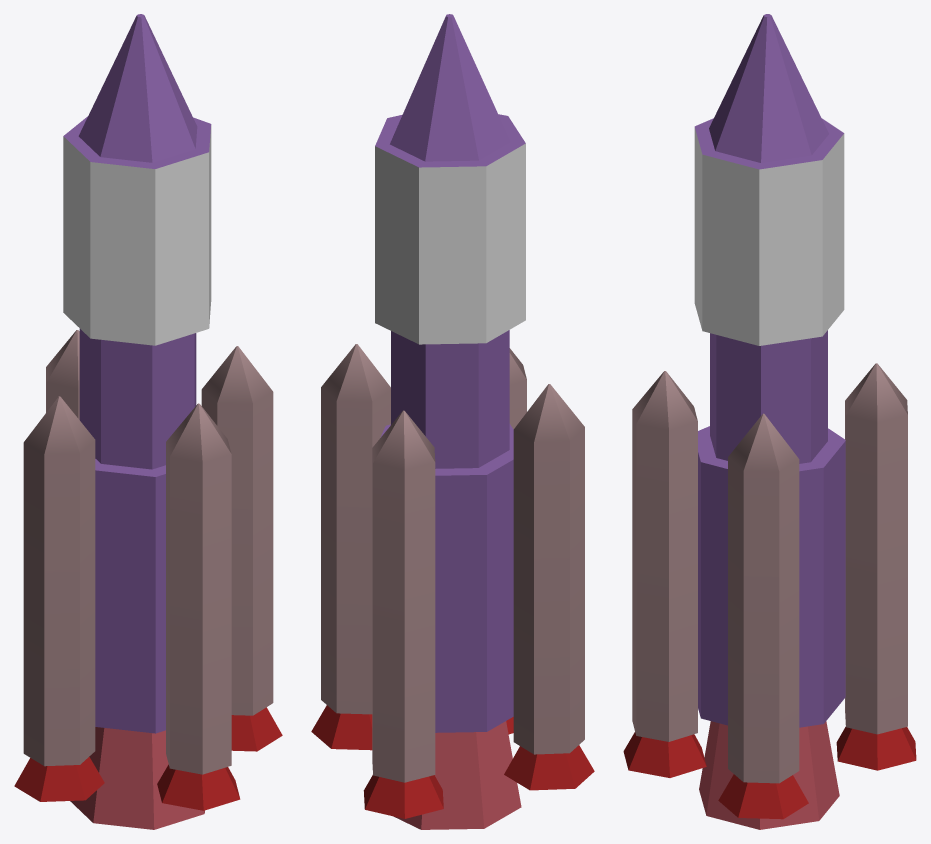
File: Rocket5_scale.fbx
3 renders of one model, left to right at view 1: azimuth 30°, elevation 25°; view 2: azimuth 150°, elevation 25°; view 3: azimuth 270°, elevation 25°, orthographic.
Parts seen in each view (by area): view 1: polySurface3, polySurface5, polySurface4, polySurface1, polySurface2; view 2: polySurface3, polySurface5, polySurface2, polySurface1, polySurface4; view 3: polySurface3, polySurface1, polySurface4, polySurface2.
Part boxes in pixels (<box>): polySurface3: <box>63,14,211,829</box>; polySurface5: <box>14,396,104,801</box>; polySurface4: <box>157,403,240,810</box>; polySurface1: <box>201,346,282,751</box>; polySurface2: <box>46,330,79,419</box>; polySurface3: <box>375,14,525,829</box>; polySurface5: <box>504,384,594,790</box>; polySurface2: <box>363,410,443,818</box>; polySurface1: <box>311,344,390,750</box>; polySurface4: <box>506,348,526,734</box>; polySurface3: <box>694,14,845,829</box>; polySurface1: <box>718,413,808,819</box>; polySurface4: <box>623,371,706,777</box>; polySurface2: <box>836,363,916,770</box>.
Size of the model in its own units: 224 by 655 by 222.
